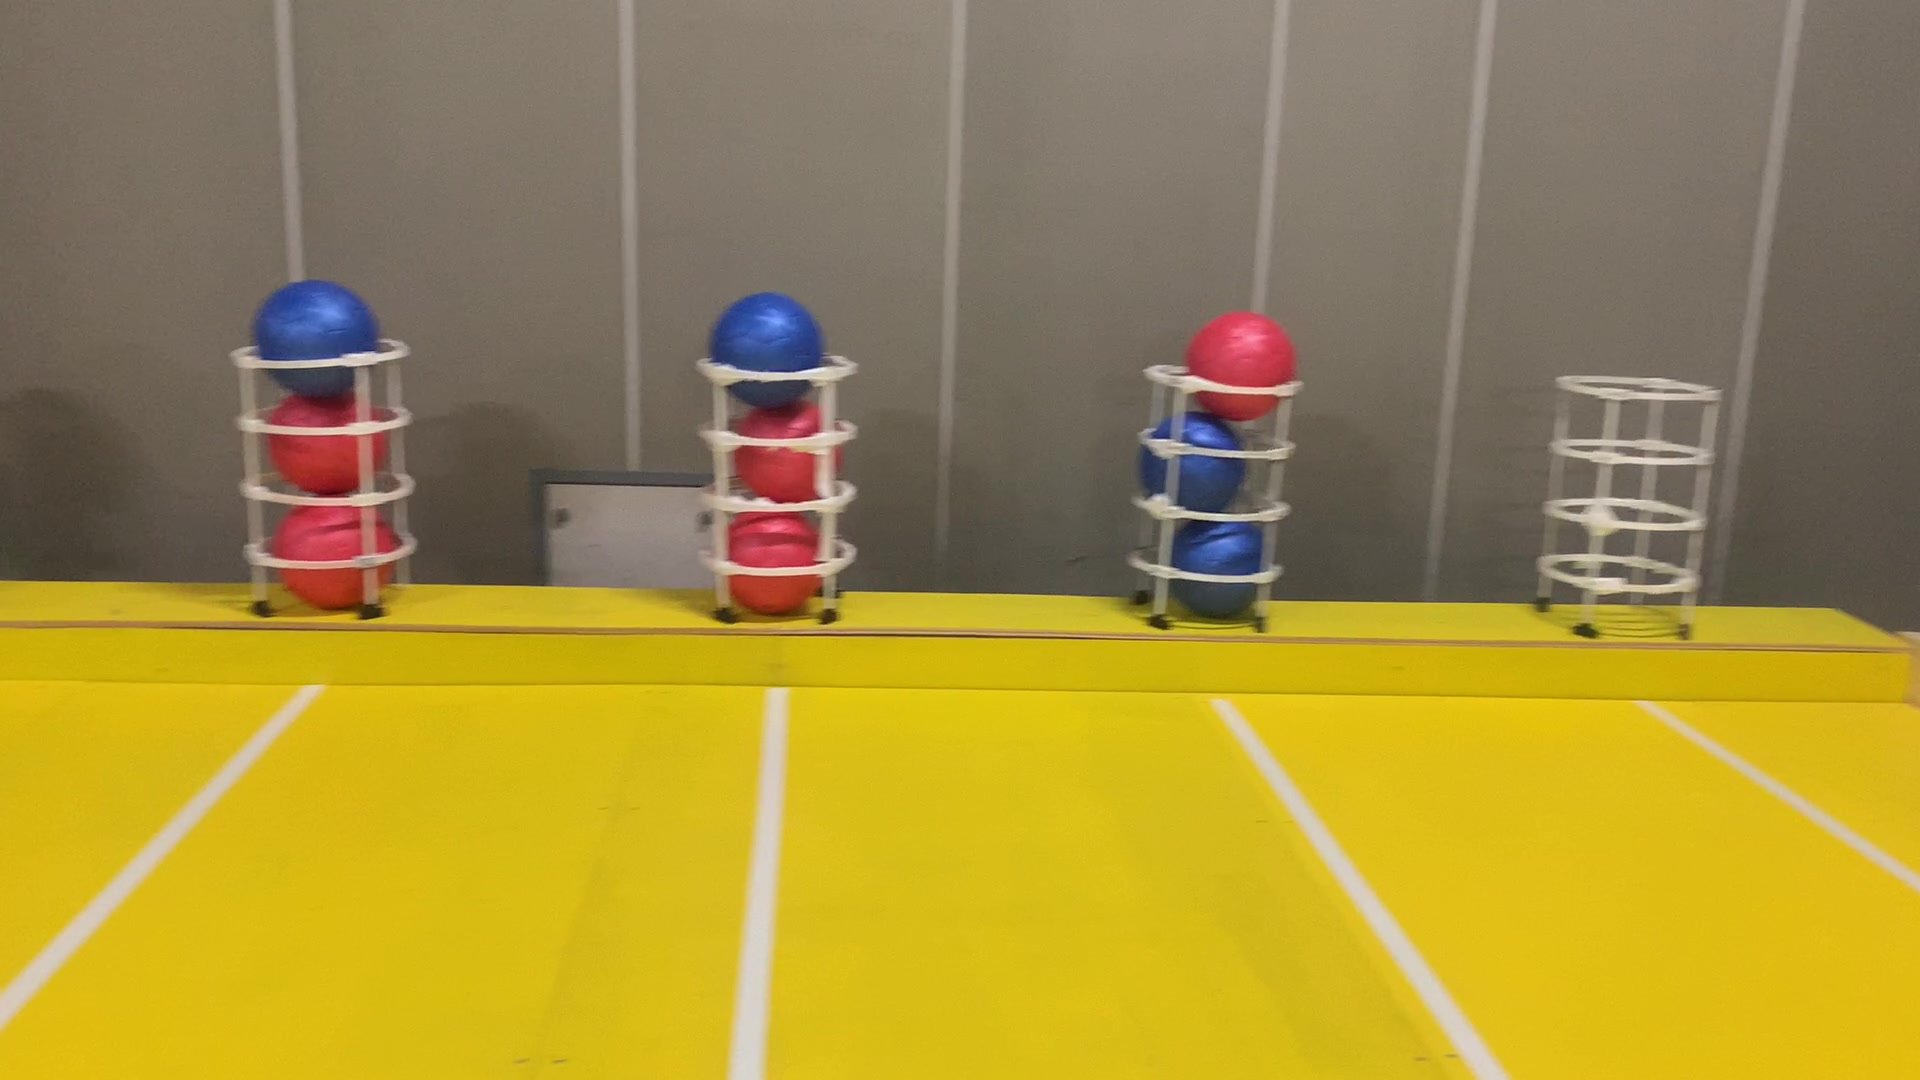blue: (244, 273, 389, 392), (1151, 493, 1274, 621), (1126, 398, 1249, 521), (708, 291, 831, 401)
red: (252, 484, 405, 609), (264, 385, 398, 501), (712, 496, 835, 617), (724, 389, 844, 508), (1189, 307, 1302, 426)
